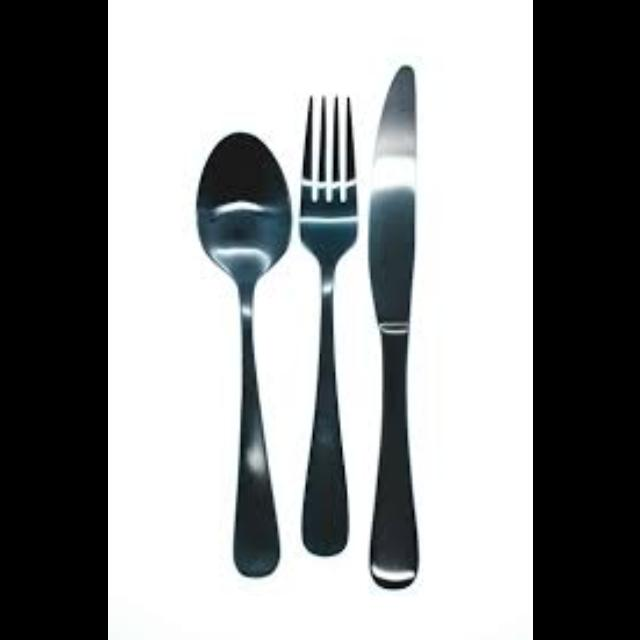Knife: (366, 64, 416, 588)
